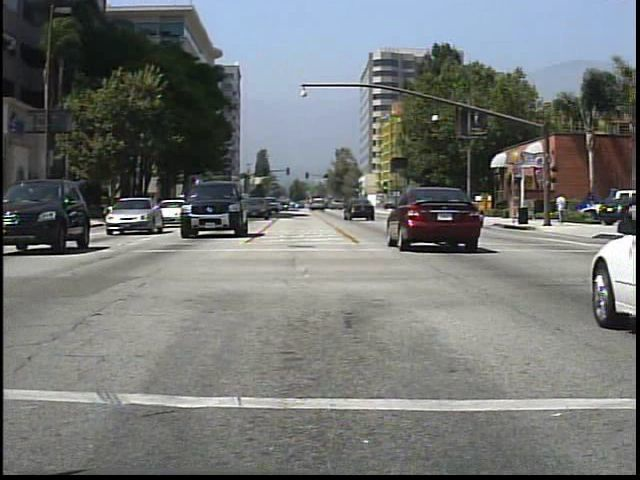person: (556, 191, 571, 226), (510, 191, 522, 225)
